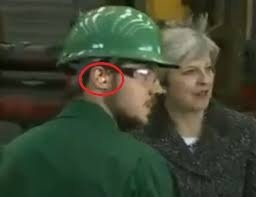helmet: (57, 5, 169, 71)
person with partial safety: (1, 1, 175, 195)
person without safety: (160, 26, 254, 195)
